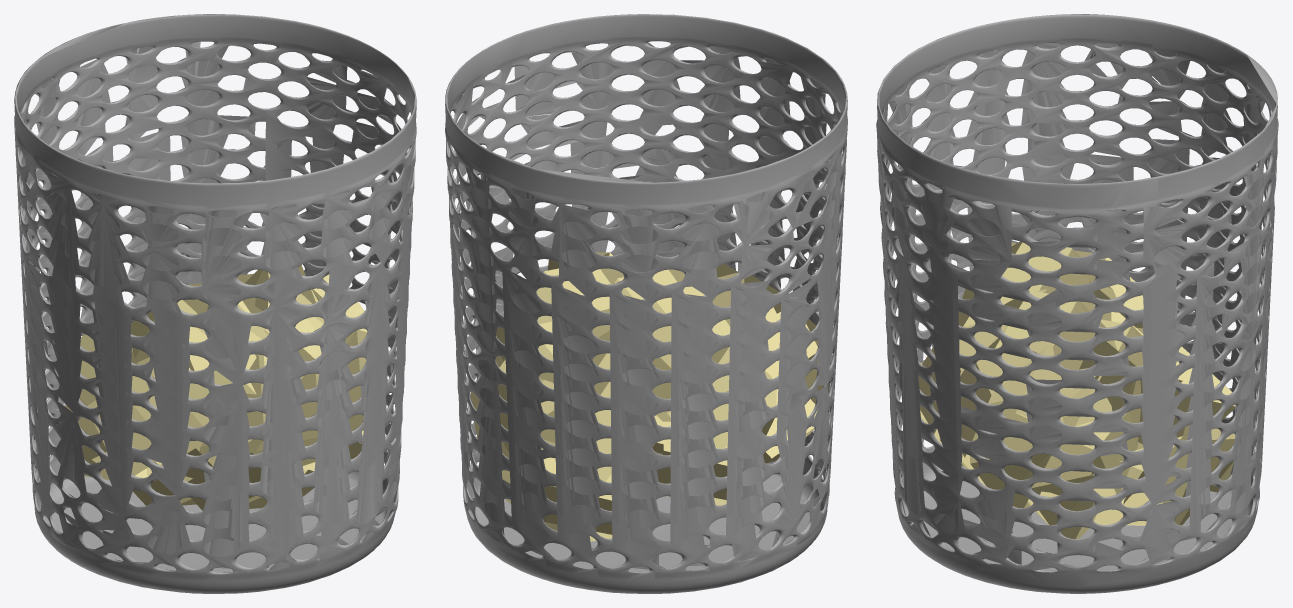
File: lixeira do quarto.fbx
The picture shows the model from 3 angles, left to right: view 1: azimuth 30°, elevation 25°; view 2: azimuth 150°, elevation 25°; view 3: azimuth 270°, elevation 25°; orthographic projection.
Parts seen in each view (by area): view 1: lixeira; view 2: lixeira; view 3: lixeira.
Part boxes in pixels (left/top/right/bottom): lixeira: left=14, top=14, right=416, bottom=593; lixeira: left=445, top=14, right=847, bottom=593; lixeira: left=876, top=14, right=1278, bottom=593.
Size of the model in its own units: 48.98 by 57.16 by 48.98.
